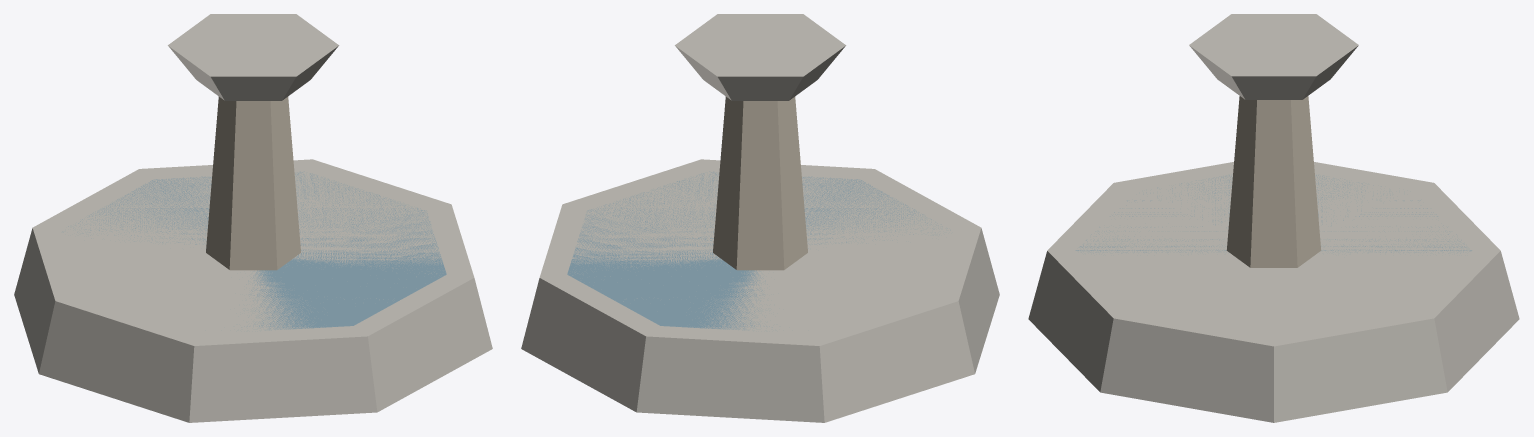
3 views of the same model, side by side, from view 1: azimuth 30°, elevation 25°; view 2: azimuth 150°, elevation 25°; view 3: azimuth 270°, elevation 25° (orthographic).
Visible parts, largest first — view 1: structure.fountain; view 2: structure.fountain; view 3: structure.fountain.
Boxes of the visible parts, bbox=[...] form: structure.fountain: bbox=[14, 14, 492, 422]; structure.fountain: bbox=[521, 14, 999, 422]; structure.fountain: bbox=[1028, 14, 1519, 422].
Size of the model in its own units: 5.2 by 3.2 by 5.2.
